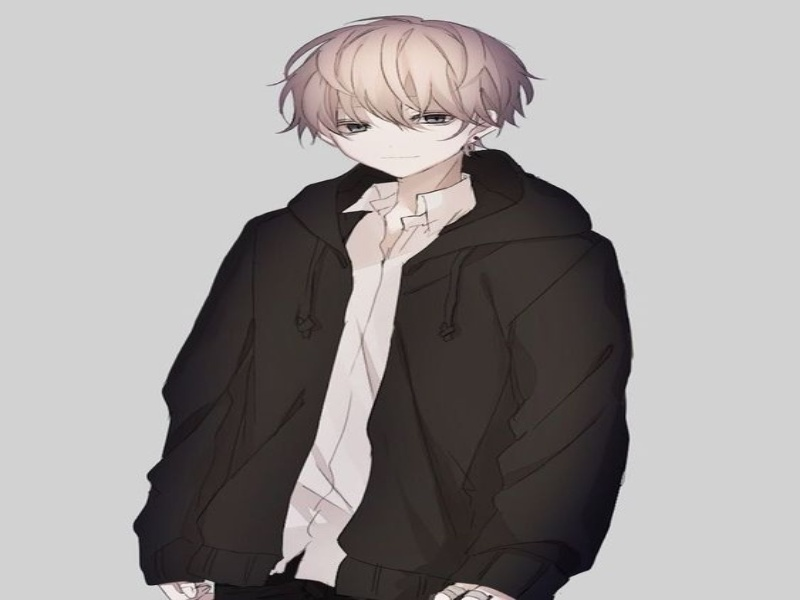person: (285, 14, 520, 189)
